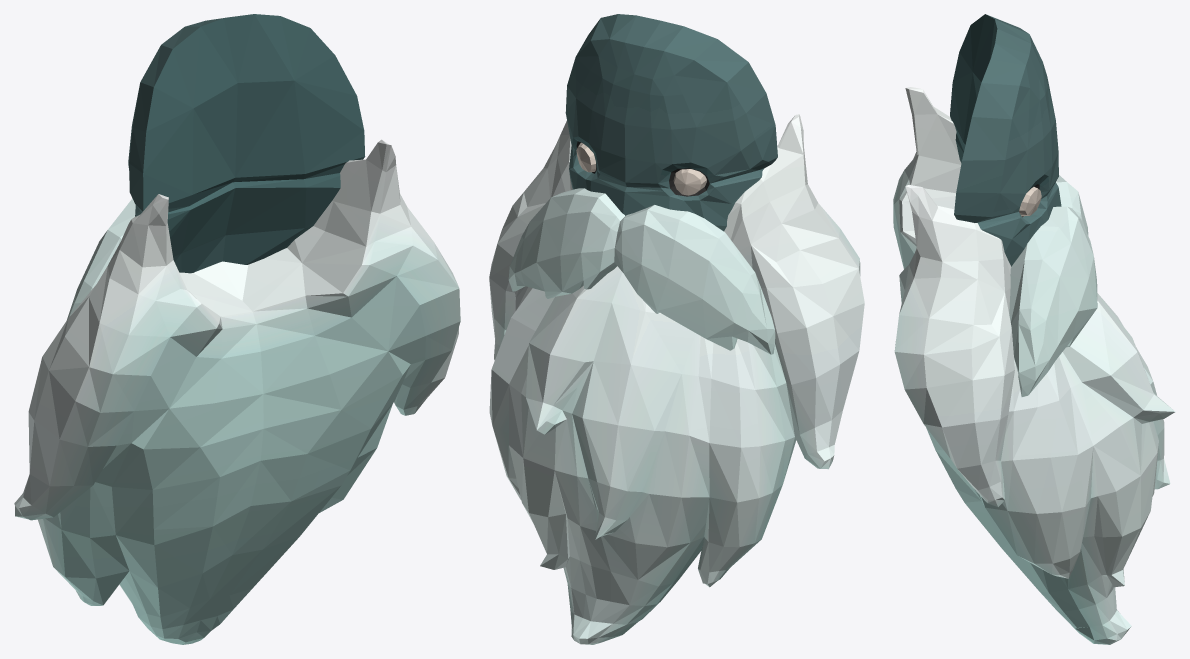
File: CharSkyKid_Mask_AP27FluffyBeard.glb
3 views of the same model, side by side, from view 1: azimuth 30°, elevation 25°; view 2: azimuth 150°, elevation 25°; view 3: azimuth 270°, elevation 25° (orthographic). The views are drawn at different scales.
Parts seen in each view (by area): view 1: CharSkyKid_Mask_AP27FluffyBeard; view 2: CharSkyKid_Mask_AP27FluffyBeard; view 3: CharSkyKid_Mask_AP27FluffyBeard.
Boxes of the visible parts, left/top/right/bottom form: CharSkyKid_Mask_AP27FluffyBeard: left=14, top=14, right=460, bottom=644; CharSkyKid_Mask_AP27FluffyBeard: left=489, top=14, right=864, bottom=644; CharSkyKid_Mask_AP27FluffyBeard: left=893, top=14, right=1175, bottom=644.
Size of the model in its own units: 3.9 by 6.13 by 2.6.
1 material, 1 textured.
